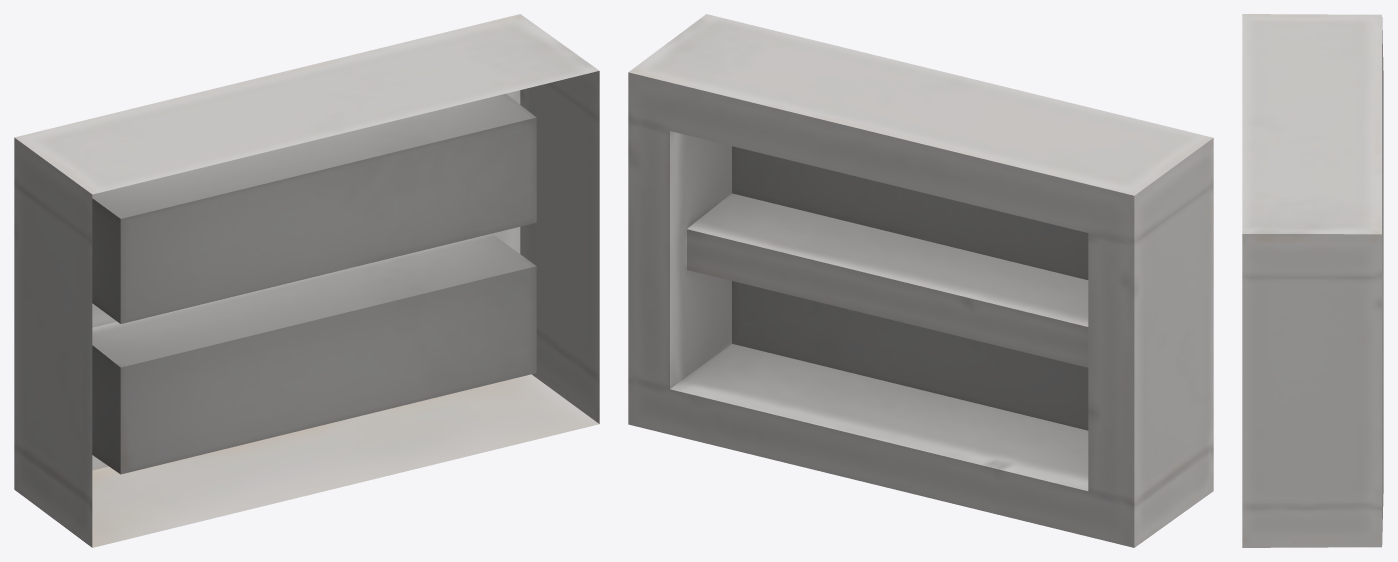
Rendered from Pfb_Indoors_Study_Shelf__6.fbx.
The picture shows the model from 3 angles, left to right: view 1: azimuth 30°, elevation 25°; view 2: azimuth 150°, elevation 25°; view 3: azimuth 270°, elevation 25°; orthographic projection. The views are drawn at different scales.
Parts seen in each view (by area): view 1: Mat_Indoors_Study_01_2; view 2: Mat_Indoors_Study_01_2; view 3: Mat_Indoors_Study_01_2.
Part boxes in pixels (bbox=[...]): Mat_Indoors_Study_01_2: bbox=[14, 14, 599, 547]; Mat_Indoors_Study_01_2: bbox=[628, 14, 1213, 547]; Mat_Indoors_Study_01_2: bbox=[1242, 14, 1383, 547].
Size of the model in its own units: 1.84 by 1.23 by 0.4997.
1 material, 1 textured.
